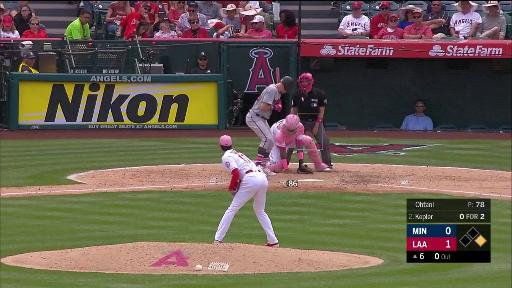pitcher: (212, 134, 281, 247)
